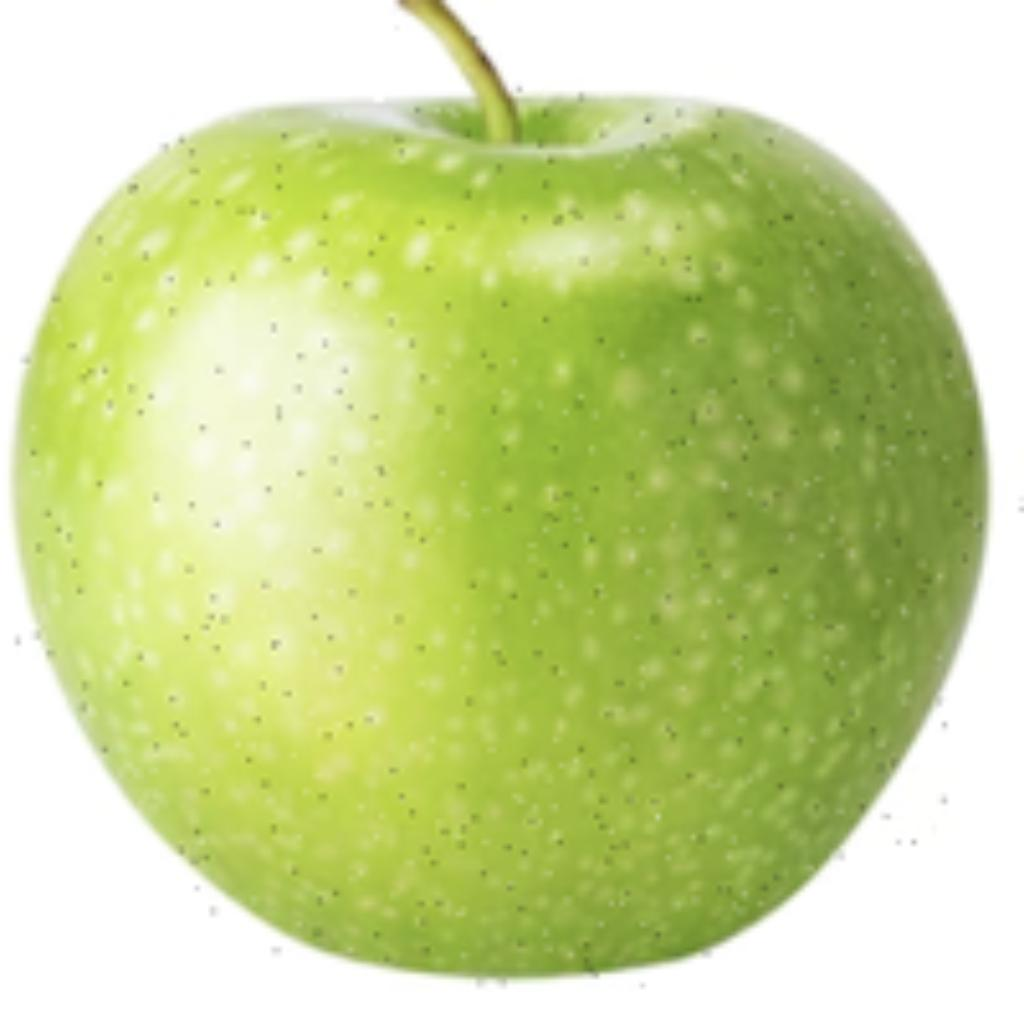apple: (5, 26, 993, 988)
